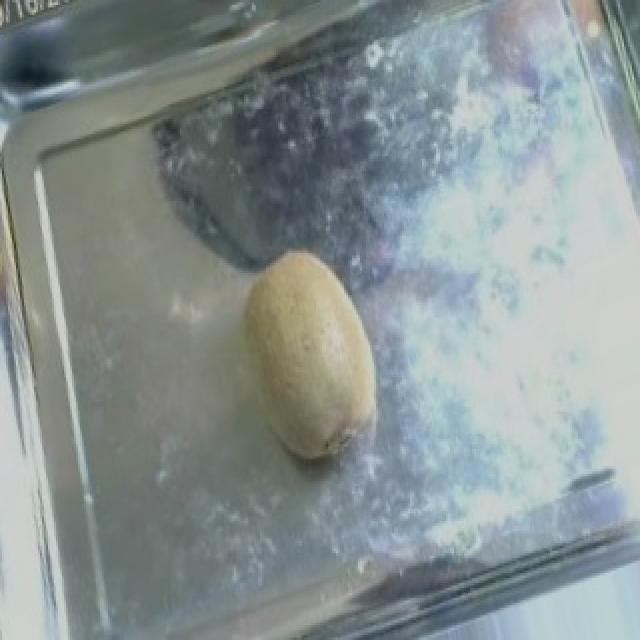Fruit: (216, 226, 408, 484)
